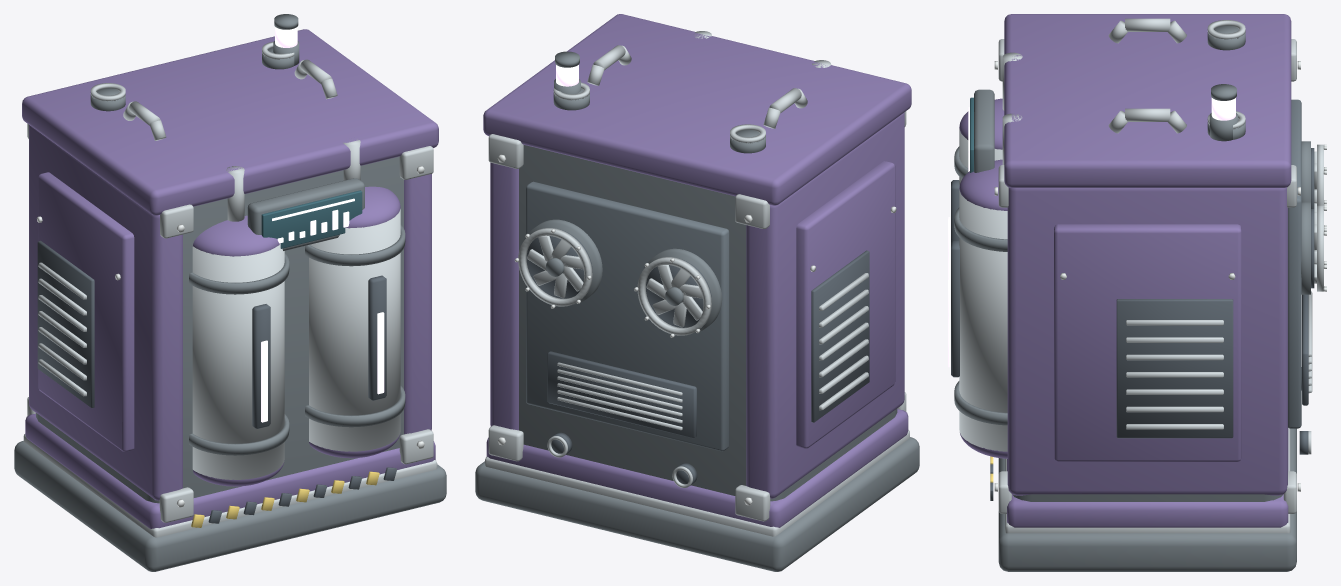
The model's file is statefulset_ultra.glb.
3 views of the same model, side by side, from view 1: azimuth 30°, elevation 25°; view 2: azimuth 150°, elevation 25°; view 3: azimuth 270°, elevation 25° (orthographic). The views are drawn at different scales.
Parts seen in each view (by area): view 1: TopArmor_plum, Vessel_steel, CornerColumn_plum, Skid_frame, SideArmor_plum, Chassis_frame, BottomArmor_plum, SideLouverBed_black, VesselClamp_frame, VesselCap_plum, CornerCap_steel, SightGlass_black (+13 smaller); view 2: TopArmor_plum, CornerColumn_plum, RearServicePanel_graphite, Chassis_frame, Skid_frame, SideArmor_plum, BottomArmor_plum, RearFan_steel, SideLouverBed_black, RearVent_black, CornerCap_steel, SkidDeck_steel (+9 smaller); view 3: TopArmor_plum, CornerColumn_plum, SideArmor_plum, SideLouverBed_black, Skid_frame, Vessel_steel, BottomArmor_plum, SideLouver_steel, RearServicePanel_graphite, VesselCap_plum, LiftEye_steel, SkidDeck_steel (+15 smaller).
Boxes of the visible parts, x1,y1,x2,y2 form: TopArmor_plum: (22,29,438,215); Vessel_steel: (192,209,400,479); CornerColumn_plum: (29,125,431,500); Skid_frame: (14,441,446,571); SideArmor_plum: (38,172,134,451); Chassis_frame: (36,156,403,503); BottomArmor_plum: (25,413,435,528); SideLouverBed_black: (37,240,94,408); VesselClamp_frame: (189,225,405,455); VesselCap_plum: (193,186,400,486); CornerCap_steel: (27,124,433,522); SightGlass_black: (252,275,386,428); TopArmor_plum: (483,14,911,205); CornerColumn_plum: (490,112,904,498); RearServicePanel_graphite: (526,181,729,451); Chassis_frame: (519,145,897,501); Skid_frame: (475,437,919,571); SideArmor_plum: (796,161,895,448); BottomArmor_plum: (486,409,908,527); RearFan_steel: (518,228,711,335); SideLouverBed_black: (811,250,869,422); RearVent_black: (547,351,696,438); CornerCap_steel: (488,111,906,521); SkidDeck_steel: (485,430,909,536); TopArmor_plum: (1004,14,1291,187); CornerColumn_plum: (1007,187,1287,495); SideArmor_plum: (1054,224,1241,461); SideLouverBed_black: (1116,299,1233,438); Skid_frame: (998,428,1296,571); Vessel_steel: (959,128,1007,451); BottomArmor_plum: (1007,428,1288,527); SideLouver_steel: (1126,320,1223,429); RearServicePanel_graphite: (1288,99,1301,428); VesselCap_plum: (959,98,1007,458); LiftEye_steel: (1108,18,1186,133); SkidDeck_steel: (1005,428,1290,533).
Size of the model in its own units: 2.07 by 2.66 by 2.01.
